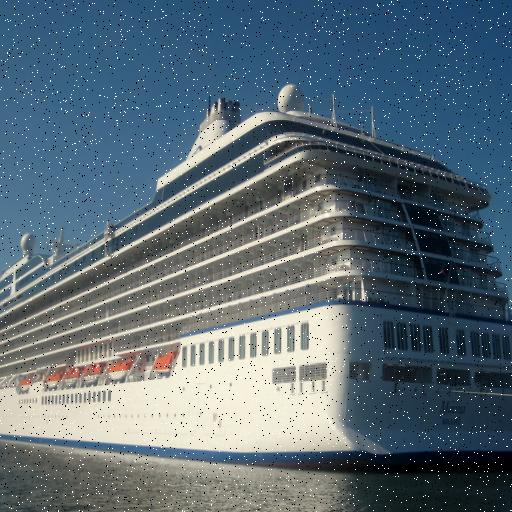cruises: (1, 61, 512, 488)
